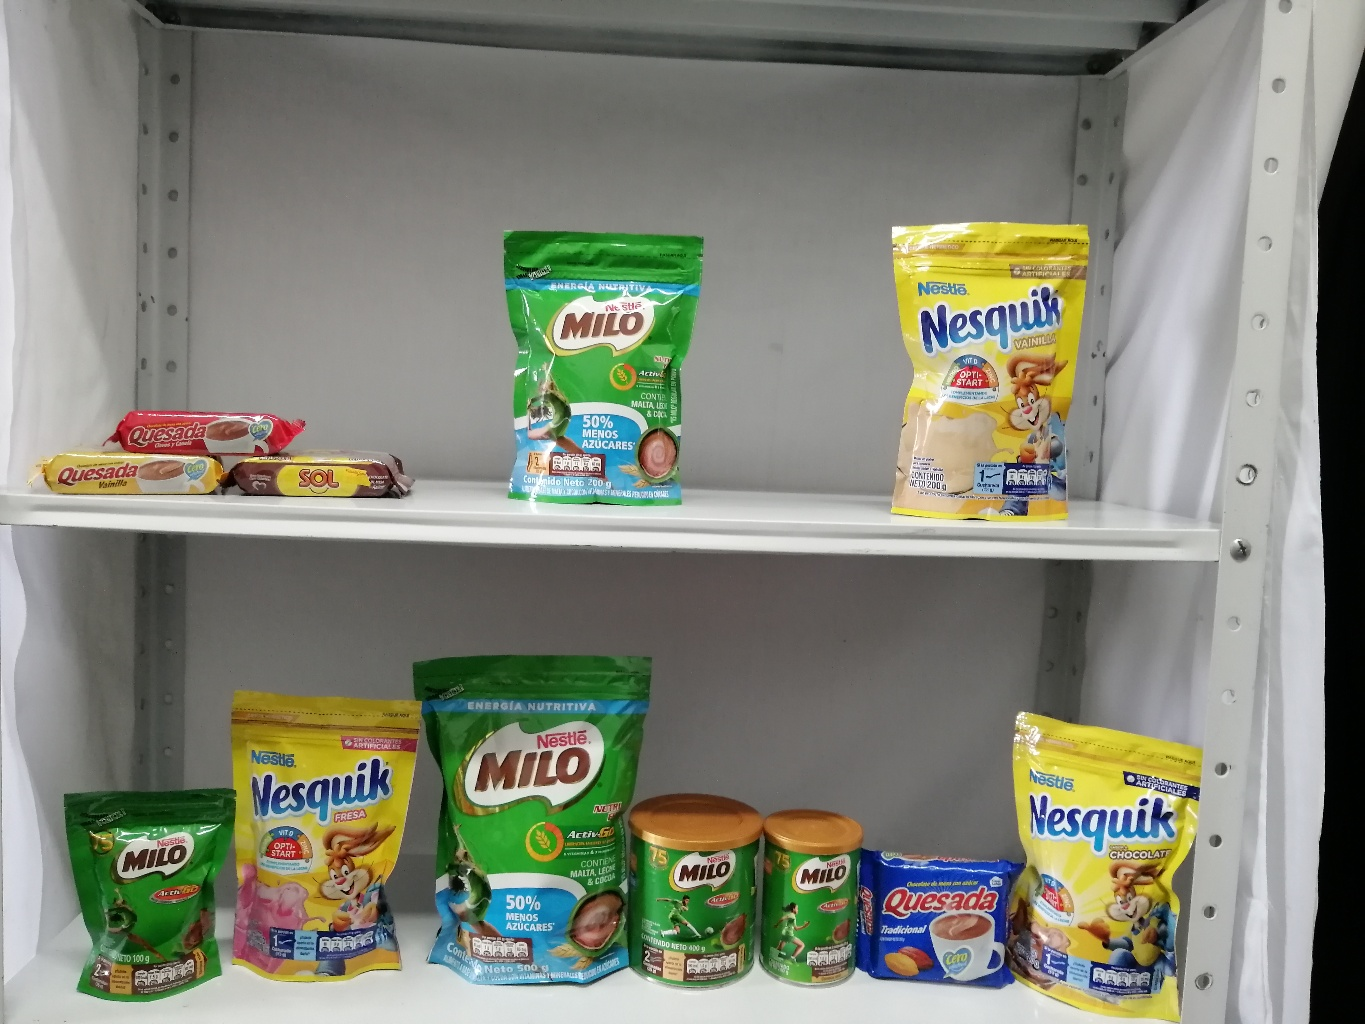COL0170203DYP10000: (55, 782, 250, 1009)
COL0170203LAT20000: (760, 797, 867, 982)
COL0170203LAT40000: (628, 783, 765, 985)
COL0170205DYP20000: (497, 218, 713, 513)
COL0170205DYP50000: (401, 645, 664, 989)
COL0170303DYP20000: (987, 701, 1206, 1019)
COL0170305DYP20000: (219, 672, 413, 982)
COL0170306DYP20000: (880, 216, 1086, 534)
